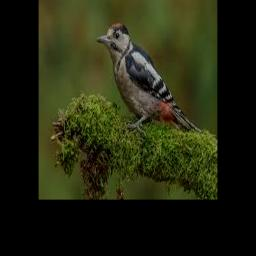Woodpecker: (97, 22, 201, 133)
